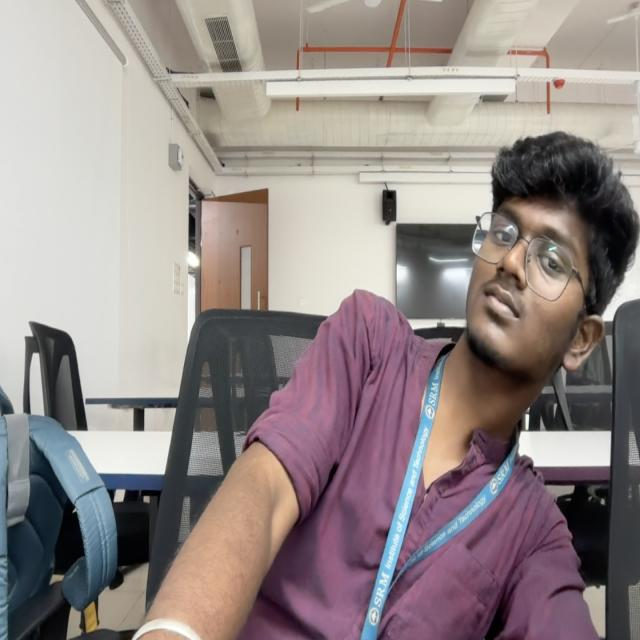ravindra: (464, 132, 637, 388)
